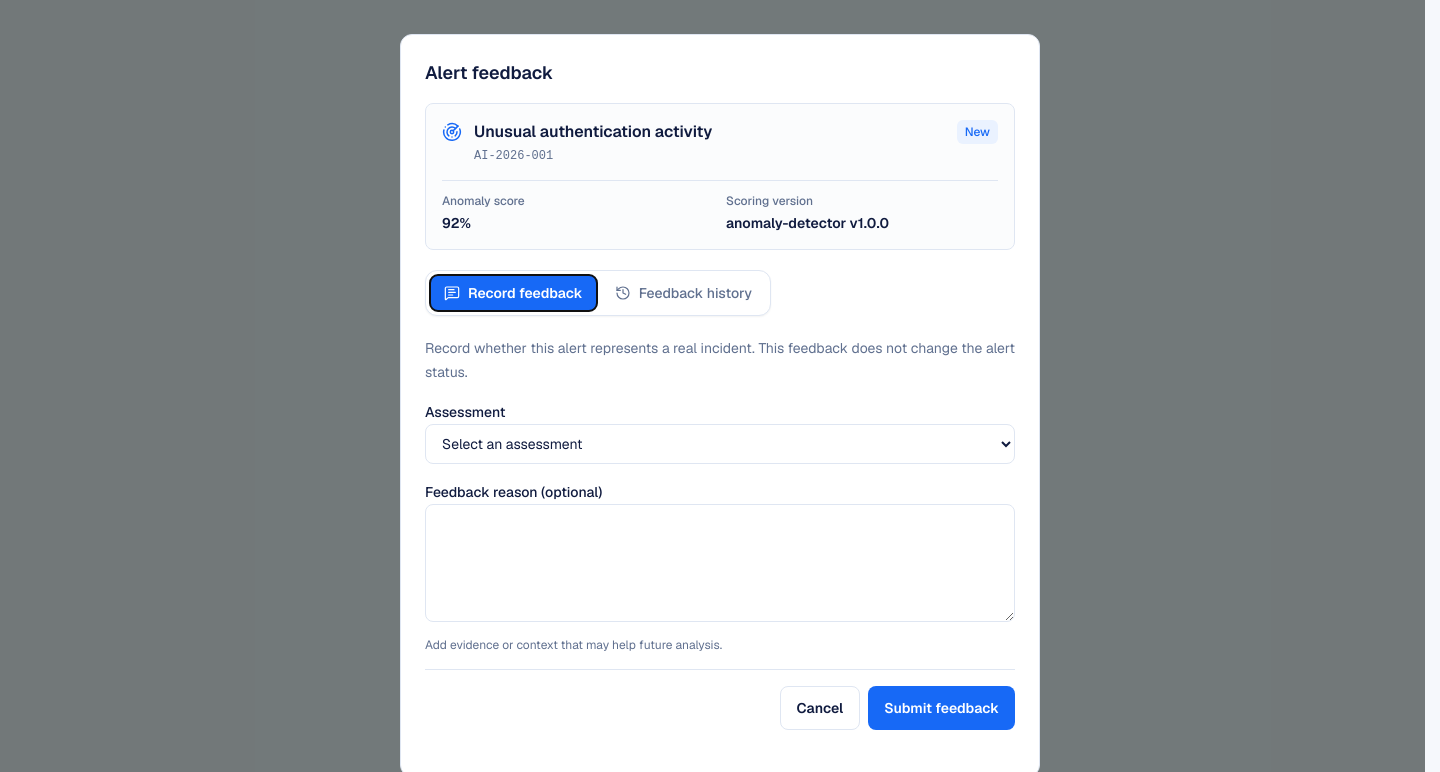
Test: EvaluateAlertReliabilityDialog › submits the backend contract and confirms success
Select "False positive" in the dropdown labelled "Assessment". click: (720, 444)
box: 425,424 -> 1015,464
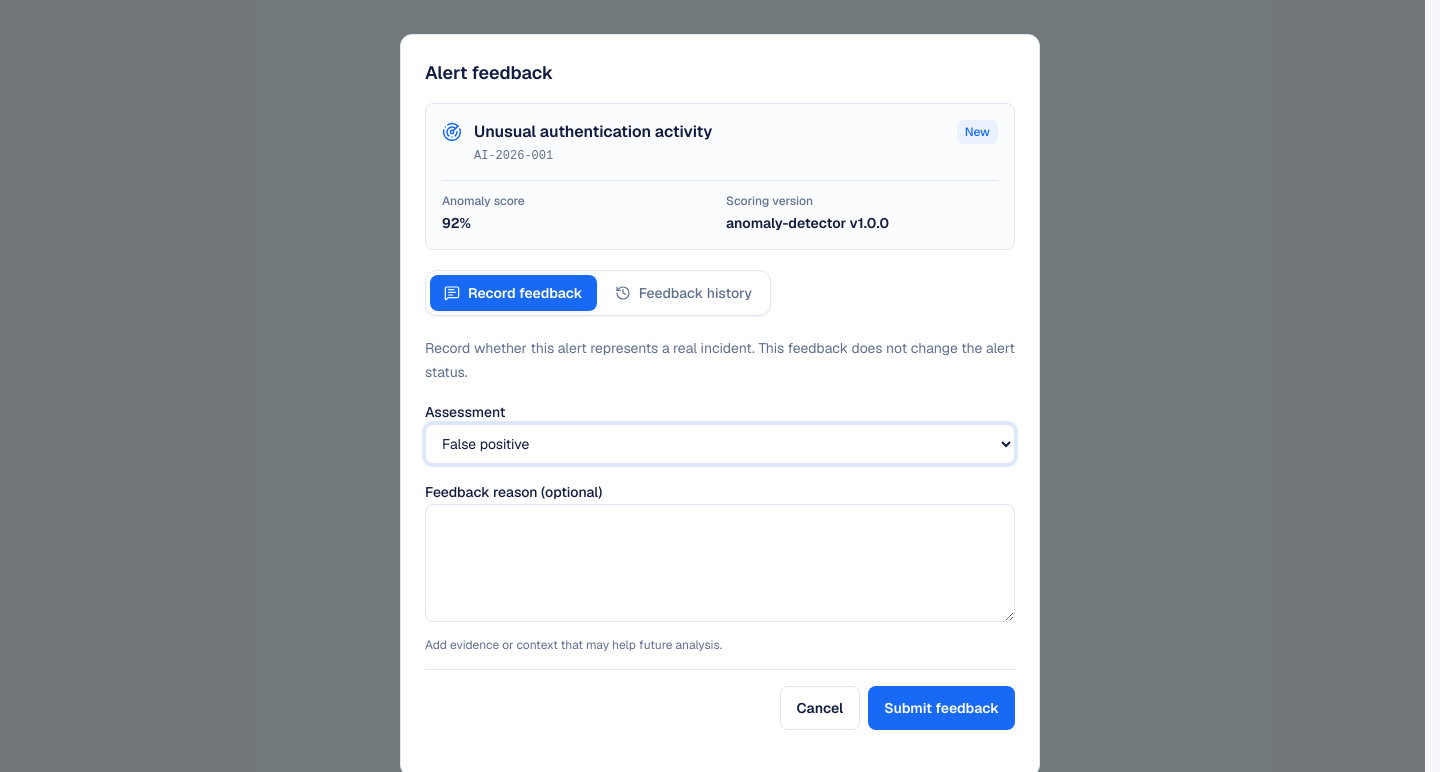
Type "Expected scanner traffic" into the text box labelled "Feedback reason (optional)". click: (720, 562)
box: 425,504 -> 1015,622
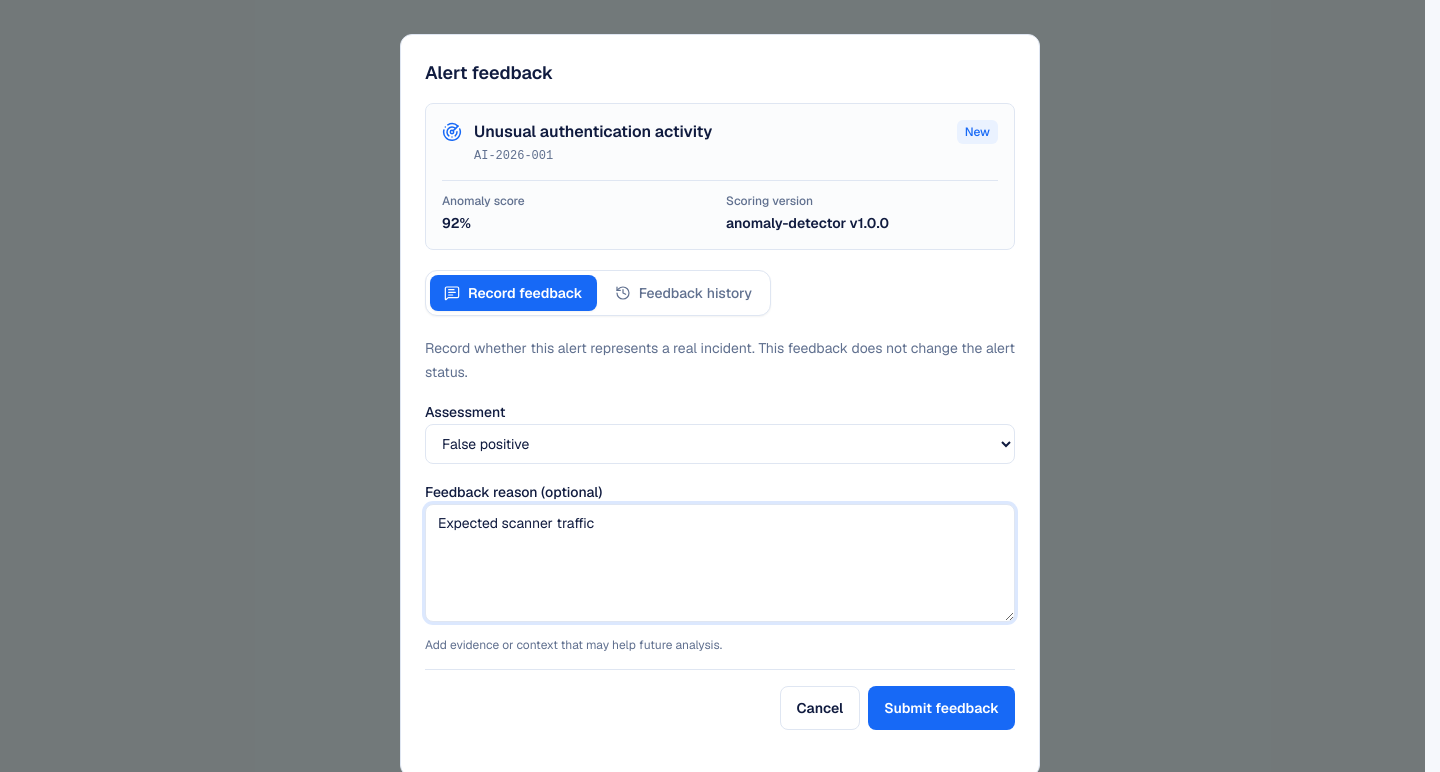
Click the button "Submit feedback". click: (942, 708)
box: 868,686 -> 1015,730
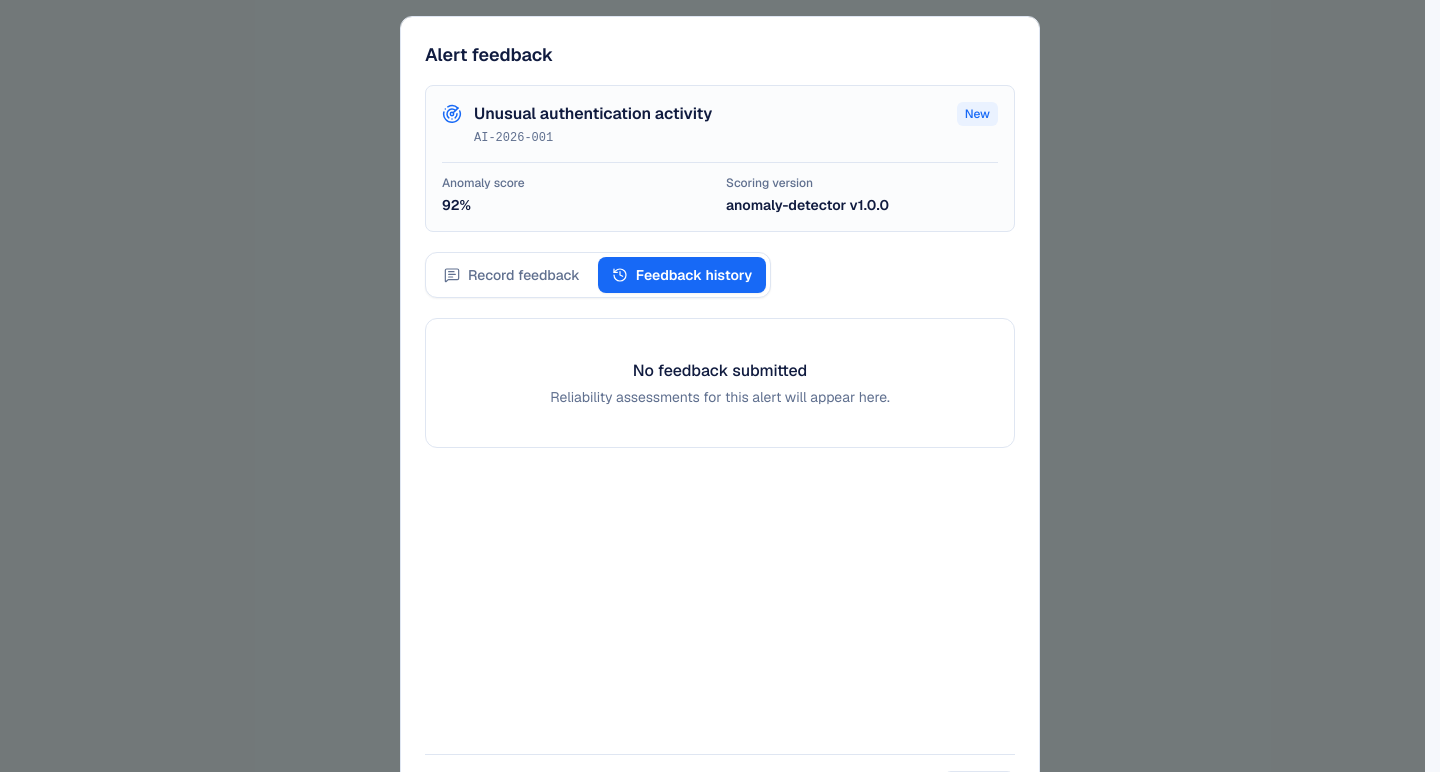
Check: the text "No feedback submitted" is shown, box 633,360 -> 807,381
